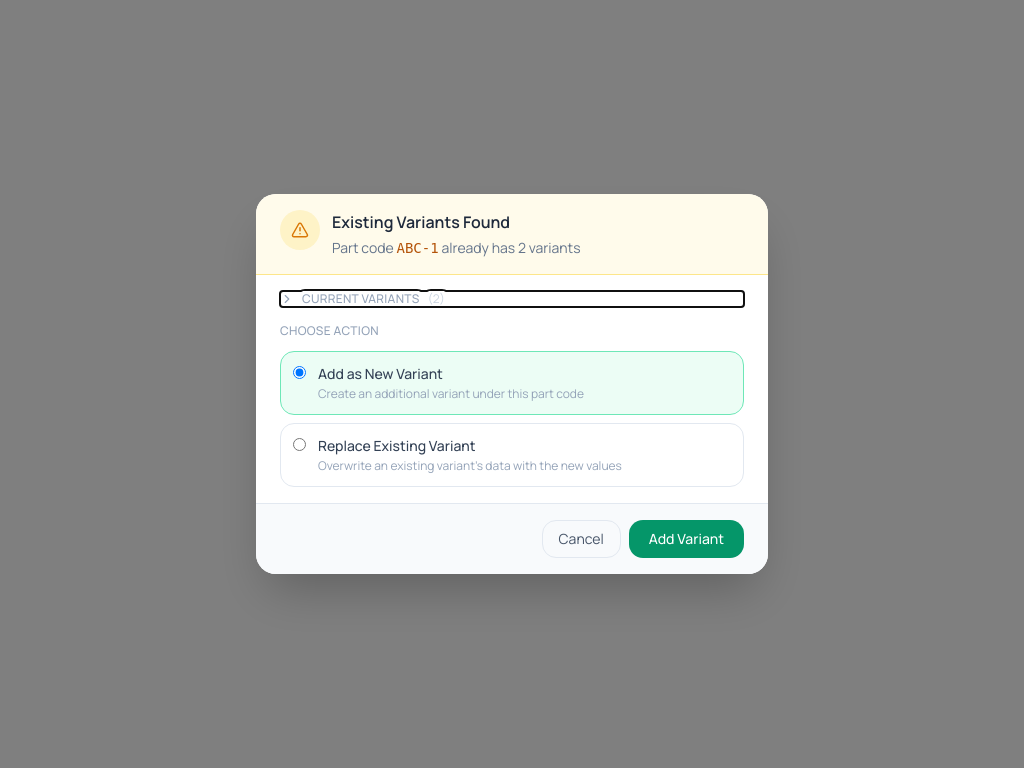
VariantResolutionDialog › disables confirm button when replace selected but no variant chosen
The width and height of the screenshot is (1024, 768).
Click the radio button labelled "Replace Existing Variant" at (300, 444), box 293,438 -> 306,451
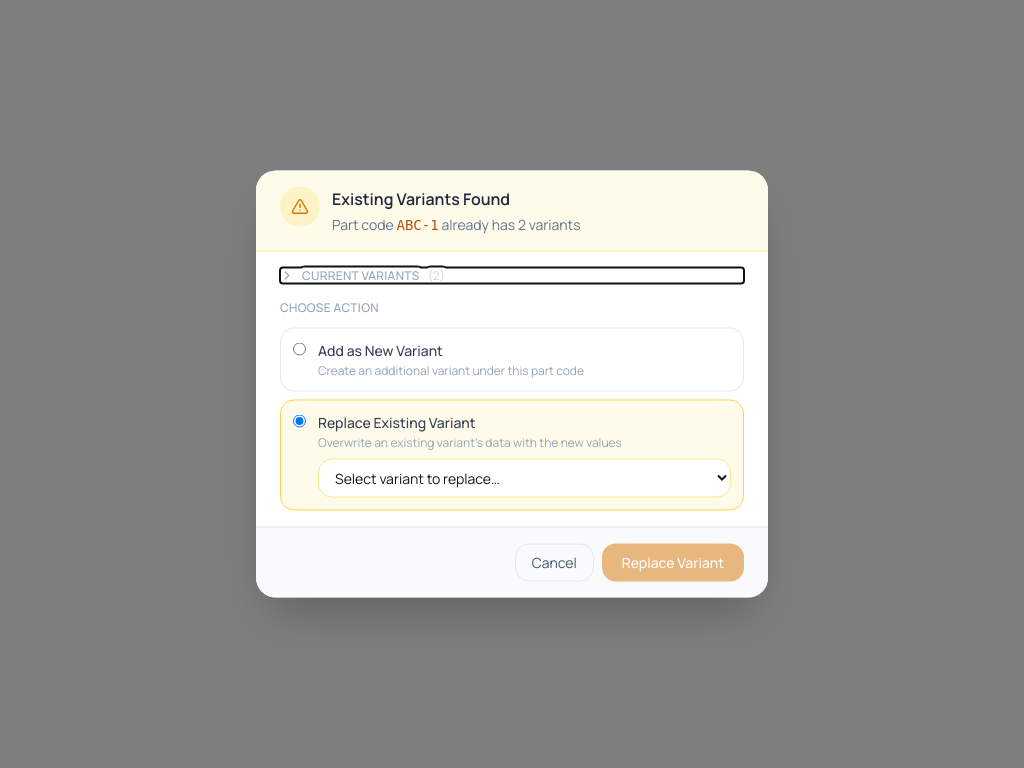
Result: the button "Replace Variant" is disabled at 602,544 -> 744,582
